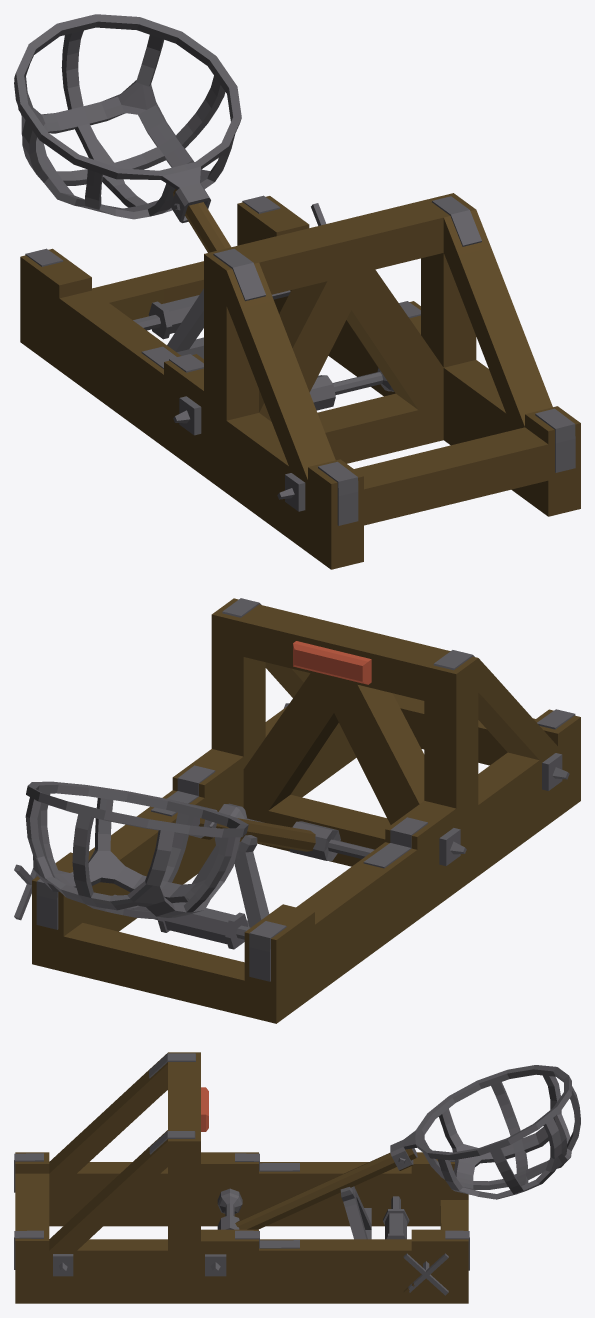
File: catapult 1.fbx
3 renders of one model, top to bottom at view 1: azimuth 30°, elevation 25°; view 2: azimuth 150°, elevation 25°; view 3: azimuth 270°, elevation 25°, orthographic. The views are drawn at different scales.
Parts seen in each view (by area): view 1: Cube, Circle; view 2: Cube, Circle; view 3: Cube, Circle.
Boxes of the visible parts, bbox=[...] form: Cube: bbox=[20, 193, 580, 569]; Circle: bbox=[14, 14, 241, 252]; Cube: bbox=[14, 598, 580, 1023]; Circle: bbox=[25, 781, 315, 918]; Cube: bbox=[14, 1052, 469, 1303]; Circle: bbox=[235, 1065, 580, 1229].
Bounding box in the file's own units: 583 × 449 × 1305.
